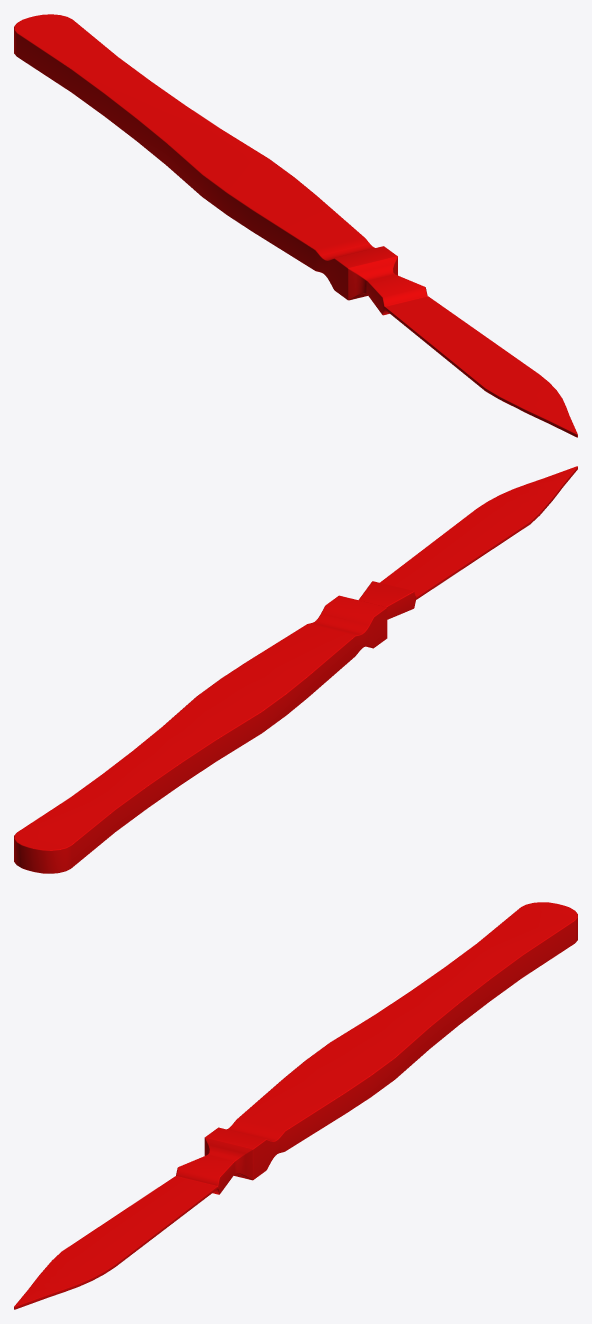
File: Medical_instrument_7.fbx
3 renders of one model, top to bottom at view 1: azimuth 30°, elevation 25°; view 2: azimuth 150°, elevation 25°; view 3: azimuth 330°, elevation 25°, orthographic. The views are drawn at different scales.
Visible parts, largest first — view 1: L37:pCube281; view 2: L37:pCube281; view 3: L37:pCube281.
Boxes of the visible parts, x1=… form: L37:pCube281: x1=14, y1=14, x2=577, y2=437; L37:pCube281: x1=14, y1=466, x2=577, y2=873; L37:pCube281: x1=14, y1=902, x2=577, y2=1309.
Size of the model in its own units: 1.92 by 0.8907 by 27.37.
